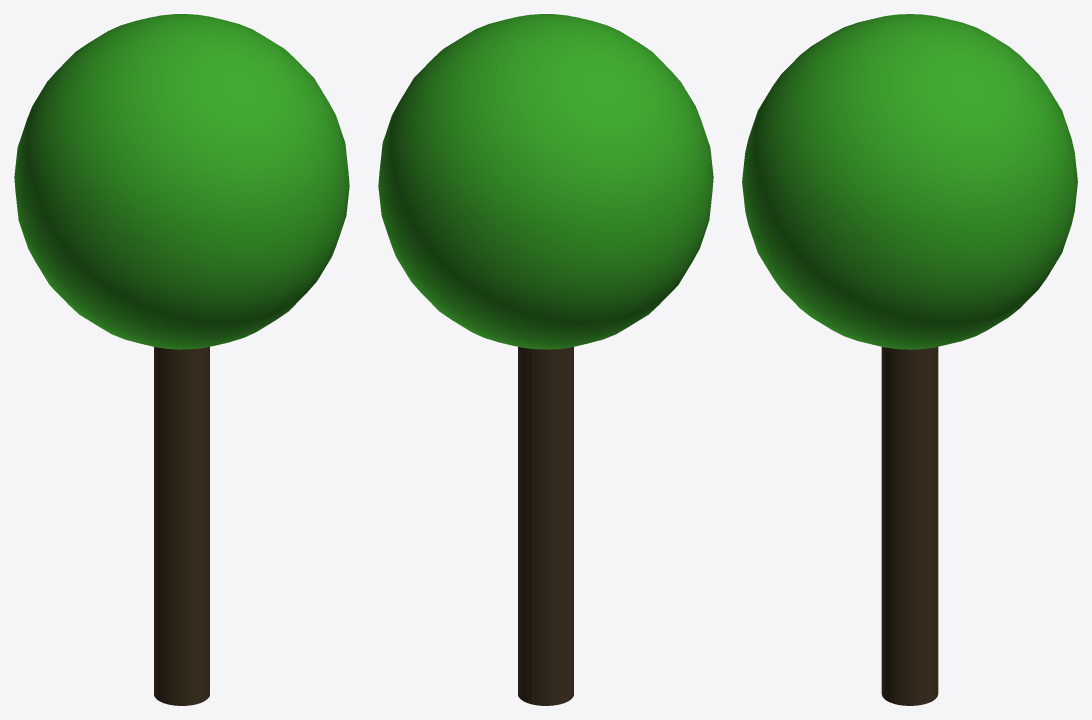
Rendered from TreeShade.glb.
3 views of the same model, side by side, from view 1: azimuth 30°, elevation 25°; view 2: azimuth 150°, elevation 25°; view 3: azimuth 270°, elevation 25° (orthographic).
Visible parts, largest first — view 1: Tree2.006; view 2: Tree2.006; view 3: Tree2.006.
Part boxes in pixels (bbox=[...]): Tree2.006: bbox=[14, 14, 349, 705]; Tree2.006: bbox=[378, 14, 713, 705]; Tree2.006: bbox=[742, 14, 1077, 705].
Size of the model in its own units: 3.73 by 8.14 by 3.73.
